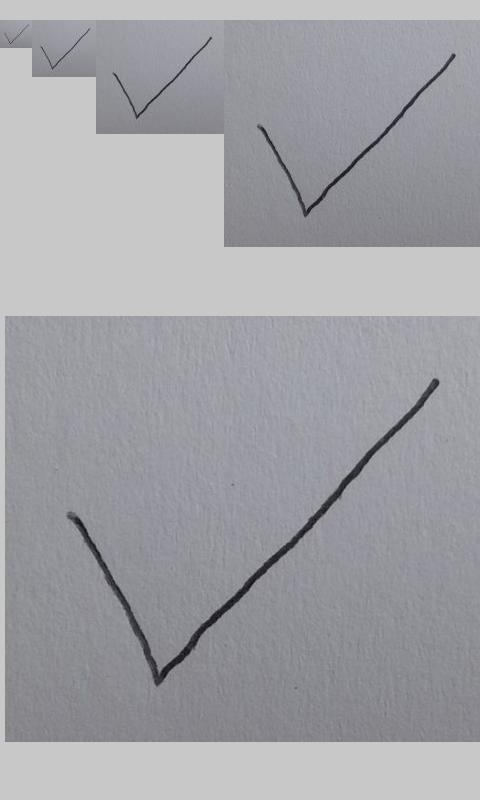check_box: (67, 379, 440, 685), (257, 54, 455, 217), (114, 37, 212, 119), (40, 28, 91, 70), (4, 25, 28, 45)
